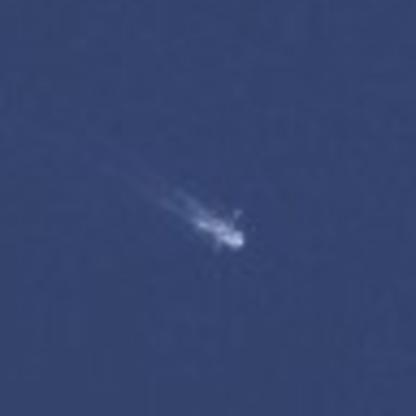ship: (192, 210, 252, 254)
